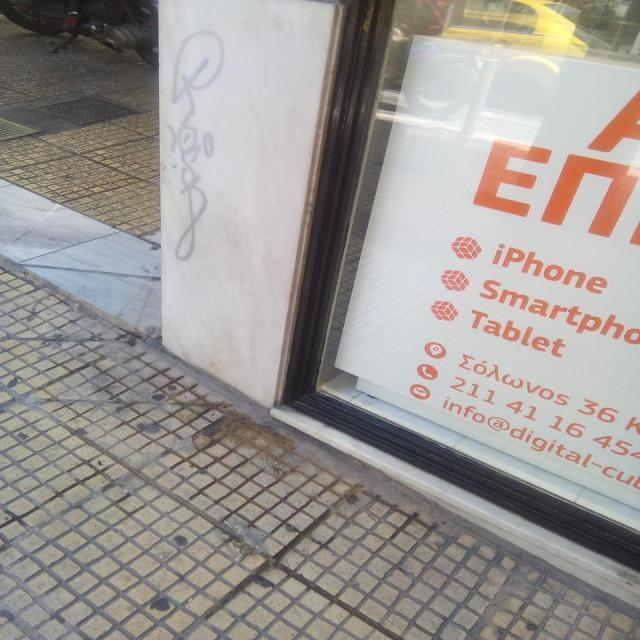nonspitting: (164, 31, 227, 260)
spitting: (409, 92, 640, 490)
